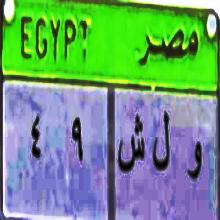4: (28, 111, 44, 164)
9: (67, 107, 86, 174)
laam: (151, 105, 173, 185)
sheen: (117, 110, 147, 186)
waw: (184, 128, 205, 192)
